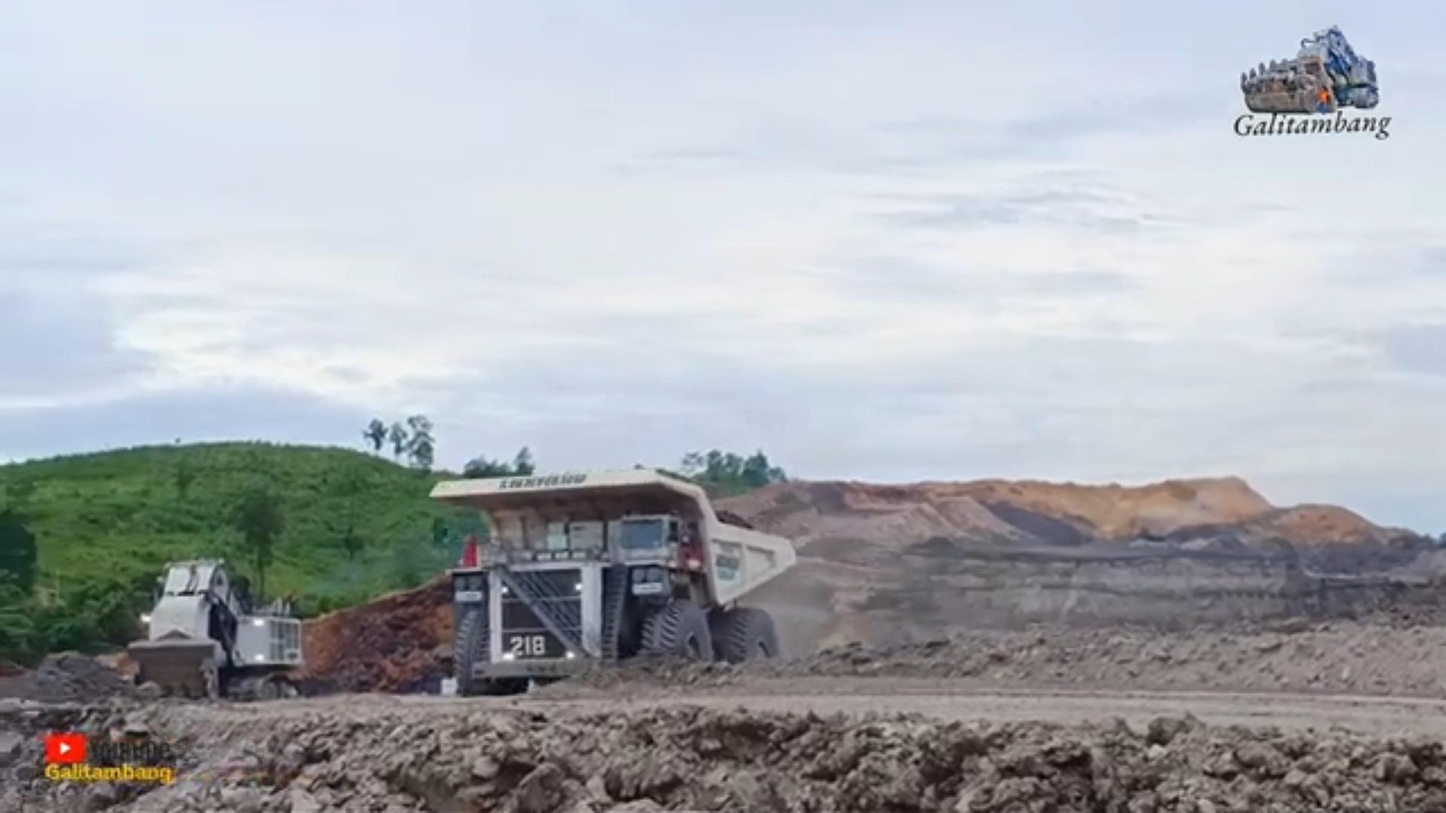Excavator: (127, 559, 305, 699)
HD-Truck: (429, 468, 797, 696)
